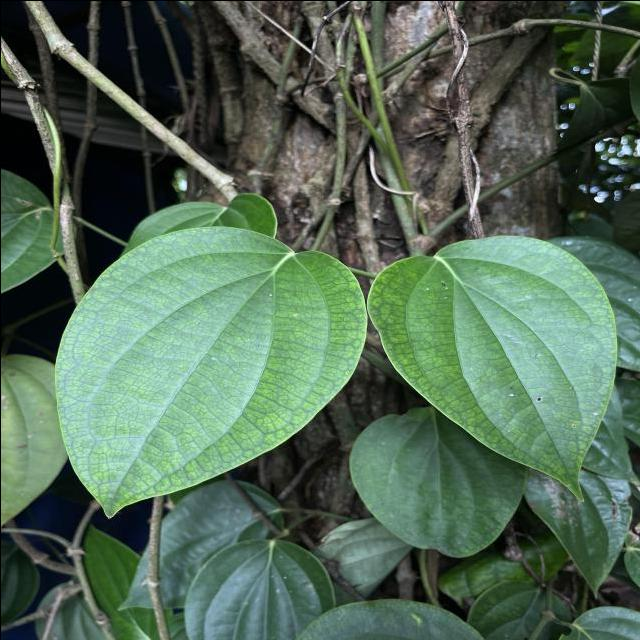Piper nigrum: (52, 223, 368, 519), (364, 232, 618, 504)
